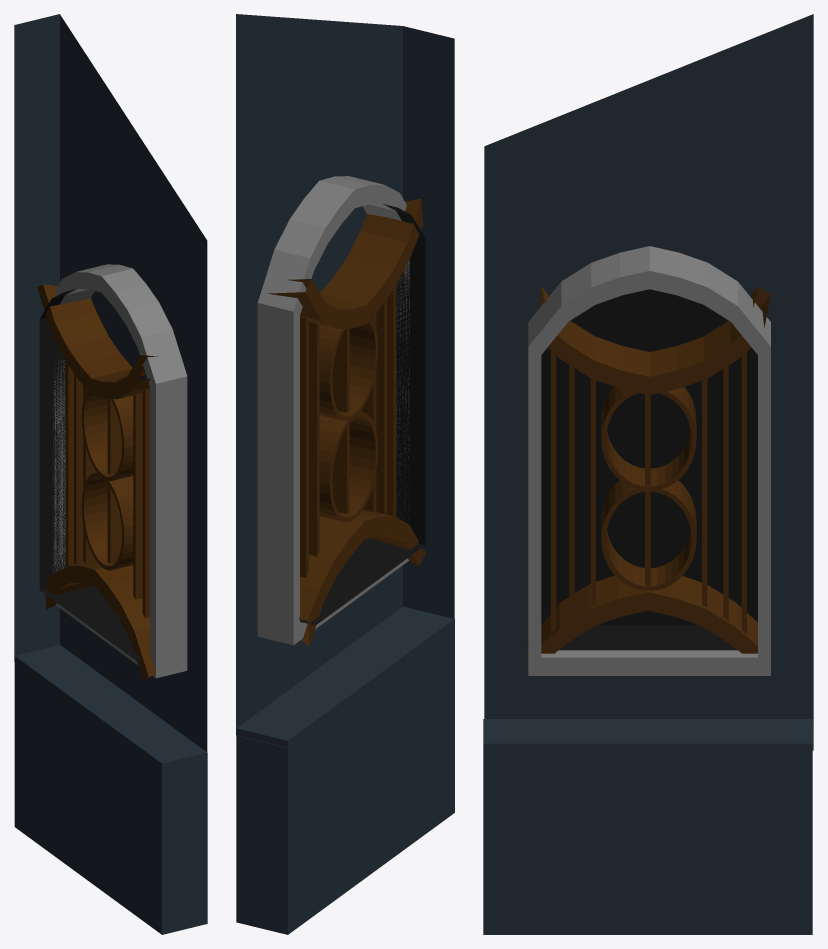
File: main_back_to_side_block4.glb
3 renders of one model, left to right at view 1: azimuth 30°, elevation 25°; view 2: azimuth 150°, elevation 25°; view 3: azimuth 270°, elevation 25°, orthographic. The views are drawn at different scales.
Visible parts, largest first — view 1: Cube.001, Cube.010, Cube.003, Cube.002, Cube.004, Cube.007, Cube.006, Cube.005, Cube.013, Cube.008, Cube.014, Cube.012 (+2 smaller); view 2: Cube.001, Cube.010, Cube.003, Cube.002, Cube.004, Cube.007, Cube.006, Cube.005, Cube.009, Cube.008, Cube.011, Cube.015 (+2 smaller); view 3: Cube.001, Cube.010, Cube.002, Cube.003, Cube.004, Cube.007, Cube.006, Cube.005, Cube.012, Cube.015, Cube.011, Cube.014 (+3 smaller).
Boxes of the visible parts, x1,y1,x2,y2 form: Cube.001: [14, 14, 207, 751]; Cube.010: [14, 645, 207, 934]; Cube.003: [53, 264, 187, 678]; Cube.002: [39, 289, 141, 660]; Cube.004: [37, 284, 158, 399]; Cube.007: [45, 560, 156, 680]; Cube.006: [81, 472, 133, 570]; Cube.005: [81, 390, 133, 481]; Cube.013: [133, 393, 142, 599]; Cube.008: [107, 399, 121, 563]; Cube.014: [142, 388, 149, 618]; Cube.012: [65, 362, 73, 566]; Cube.001: [236, 14, 454, 748]; Cube.010: [236, 606, 454, 934]; Cube.003: [257, 176, 409, 645]; Cube.002: [300, 204, 425, 625]; Cube.004: [268, 198, 423, 328]; Cube.007: [299, 510, 425, 646]; Cube.006: [319, 411, 378, 522]; Cube.005: [319, 318, 378, 421]; Cube.009: [309, 322, 319, 556]; Cube.008: [332, 328, 349, 513]; Cube.011: [300, 317, 308, 577]; Cube.015: [387, 286, 396, 517]; Cube.001: [484, 14, 813, 750]; Cube.010: [483, 719, 812, 934]; Cube.002: [541, 289, 757, 650]; Cube.003: [528, 246, 770, 675]; Cube.004: [538, 286, 770, 395]; Cube.007: [527, 575, 757, 653]; Cube.006: [601, 480, 696, 590]; Cube.005: [601, 386, 696, 491]; Cube.012: [741, 351, 746, 634]; Cube.015: [551, 351, 556, 633]; Cube.011: [723, 366, 728, 620]; Cube.014: [569, 365, 574, 619].
Size of the model in its own units: 1.01 by 13.05 by 4.36.
